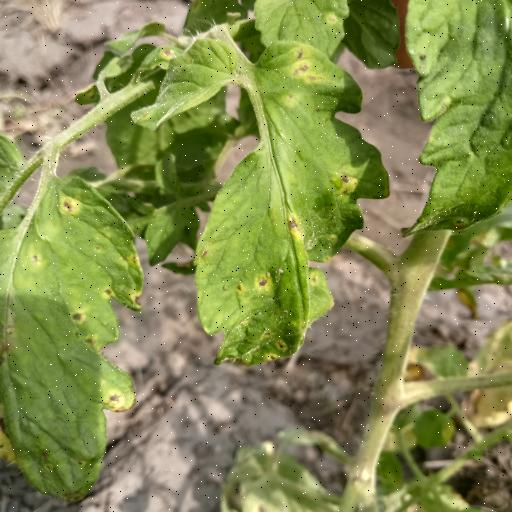Tomato_Brown_Spots: (128, 14, 394, 376), (0, 133, 155, 512), (402, 0, 512, 240)
